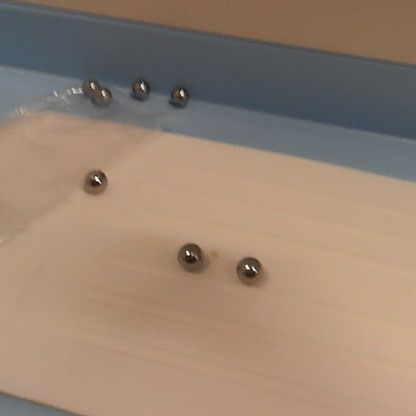ironball: (232, 250, 267, 286), (78, 164, 111, 199), (175, 238, 203, 277), (126, 75, 154, 105), (168, 81, 193, 108), (90, 83, 111, 104), (77, 74, 99, 91)
